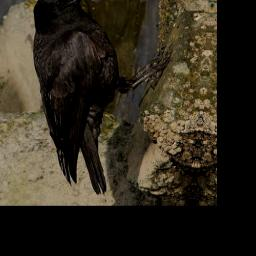Crow: (14, 0, 179, 198)
